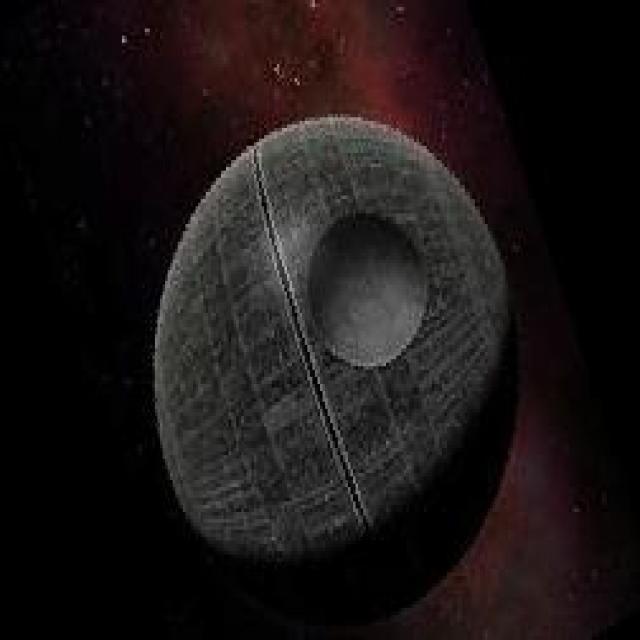Death Star: (147, 107, 516, 576)
